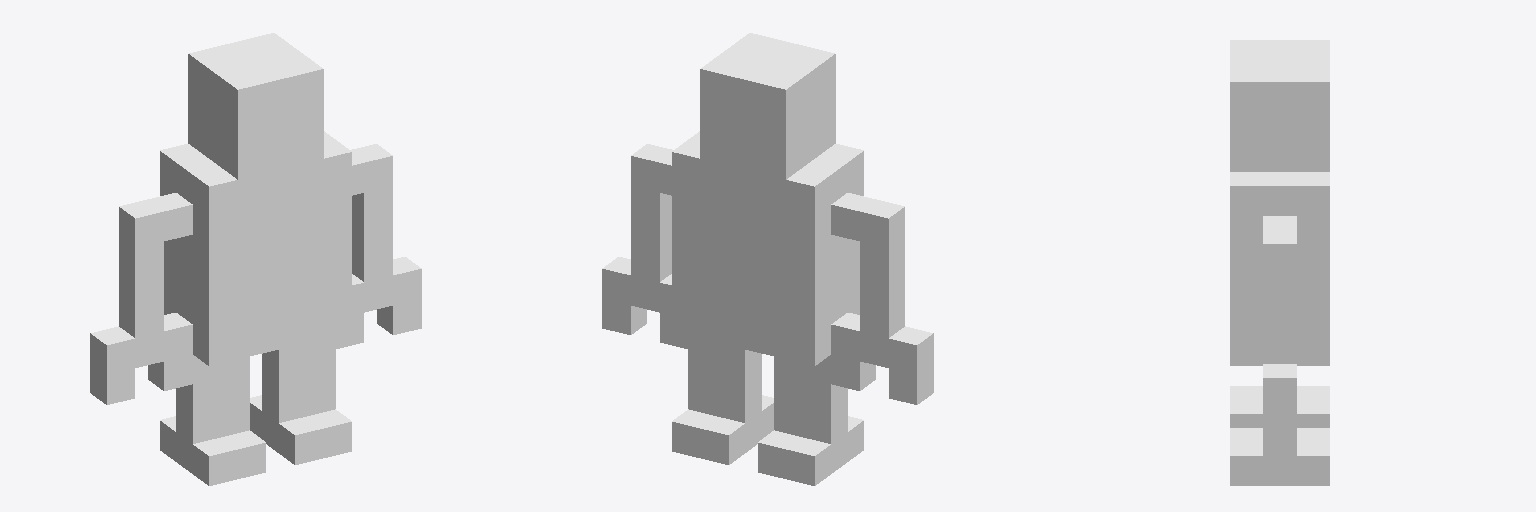
The model's file is robot.obj.
The picture shows the model from 3 angles: view 1: azimuth 30°, elevation 25°; view 2: azimuth 150°, elevation 25°; view 3: azimuth 270°, elevation 25°; orthographic projection.
Parts seen in each view (by area): view 1: robot; view 2: robot; view 3: robot.
Boxes of the visible parts, box(x1,y1,x2,y2) form: robot: box(90, 33, 421, 485); robot: box(602, 33, 933, 485); robot: box(1230, 40, 1329, 485).
Size of the model in its own units: 1.1 by 1.3 by 0.3.